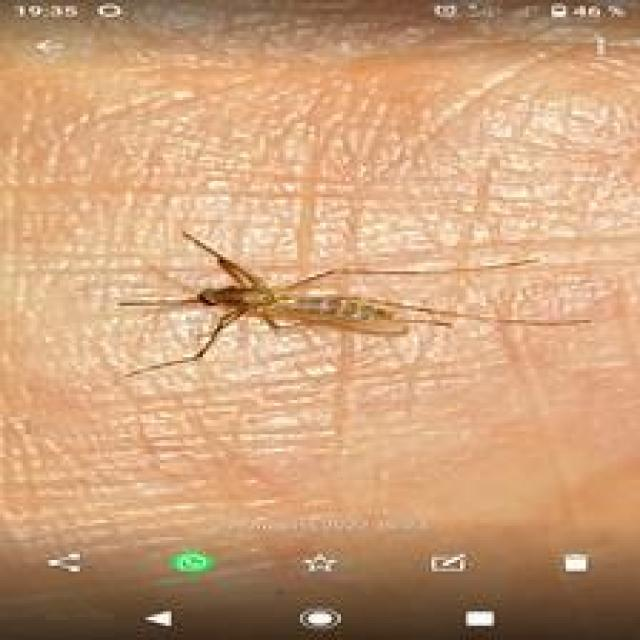Culex: (116, 229, 590, 380)
